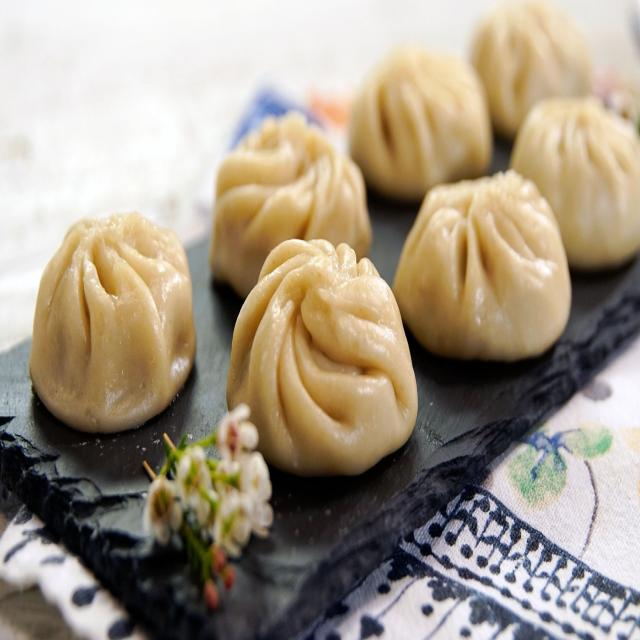momos: (223, 219, 408, 501), (21, 207, 198, 423), (406, 183, 562, 394), (237, 138, 371, 246)
